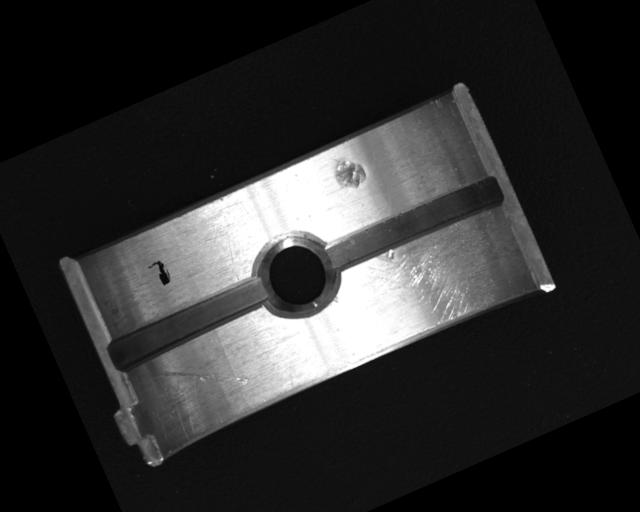blot: (146, 257, 174, 290)
bruise: (327, 147, 370, 195)
gap: (317, 169, 509, 281), (104, 274, 271, 373)
hole: (240, 222, 347, 331)
nick: (153, 339, 250, 417)
scratch: (334, 205, 530, 361)
